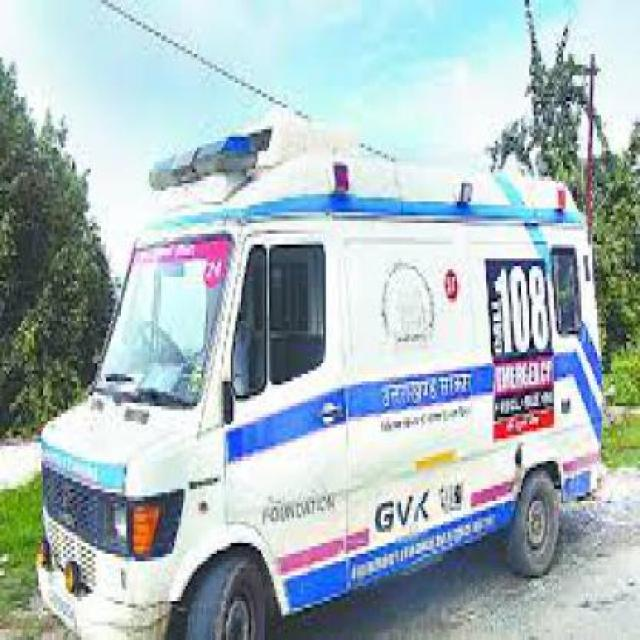Ambulance: (27, 112, 615, 636)
